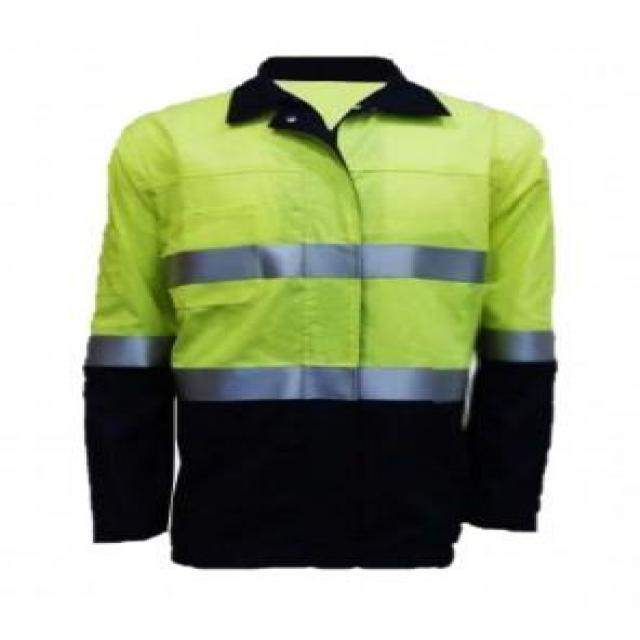Reflective-Jacket: (41, 57, 603, 593)
